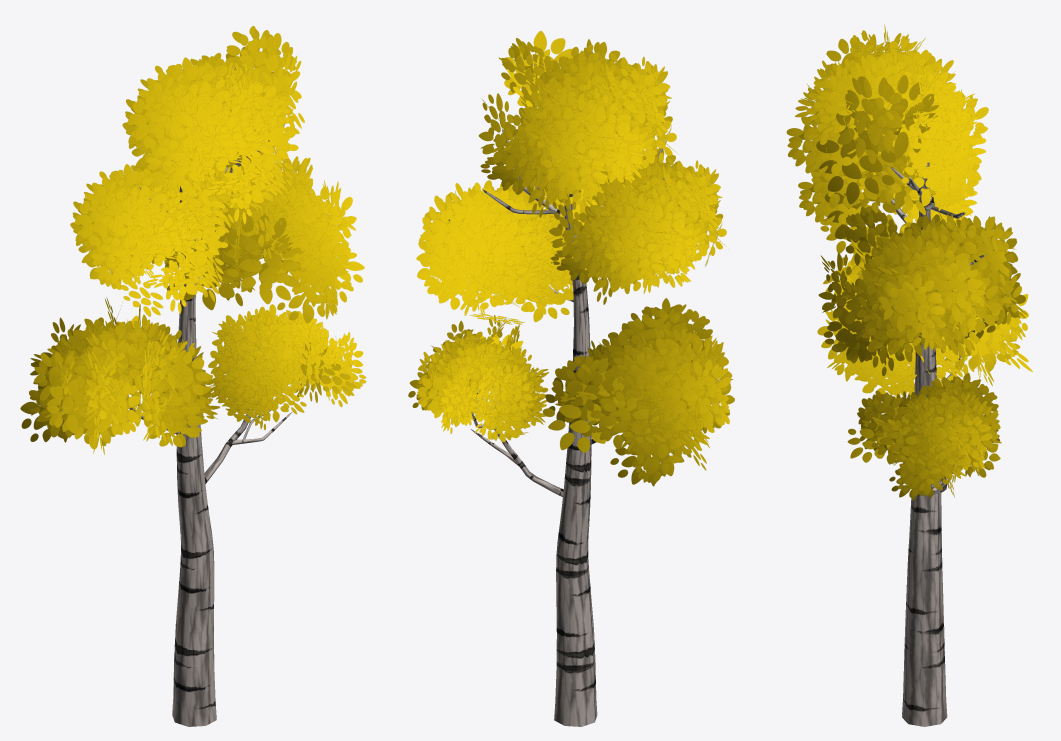
File: SilverBirch.glb
The picture shows the model from 3 angles, left to right: view 1: azimuth 30°, elevation 25°; view 2: azimuth 150°, elevation 25°; view 3: azimuth 270°, elevation 25°; orthographic projection. The views are drawn at different scales.
Parts seen in each view (by area): view 1: BirchTree_1; view 2: BirchTree_1; view 3: BirchTree_1.
Part boxes in pixels (bbox=[...]): BirchTree_1: bbox=[20, 26, 365, 726]; BirchTree_1: bbox=[408, 31, 734, 726]; BirchTree_1: bbox=[786, 24, 1032, 726].
Size of the model in its own units: 2.71 by 5.45 by 1.94.
2 materials, 2 textured.
